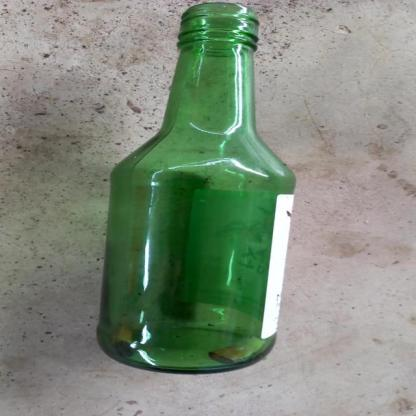Can: (97, 1, 296, 376)
